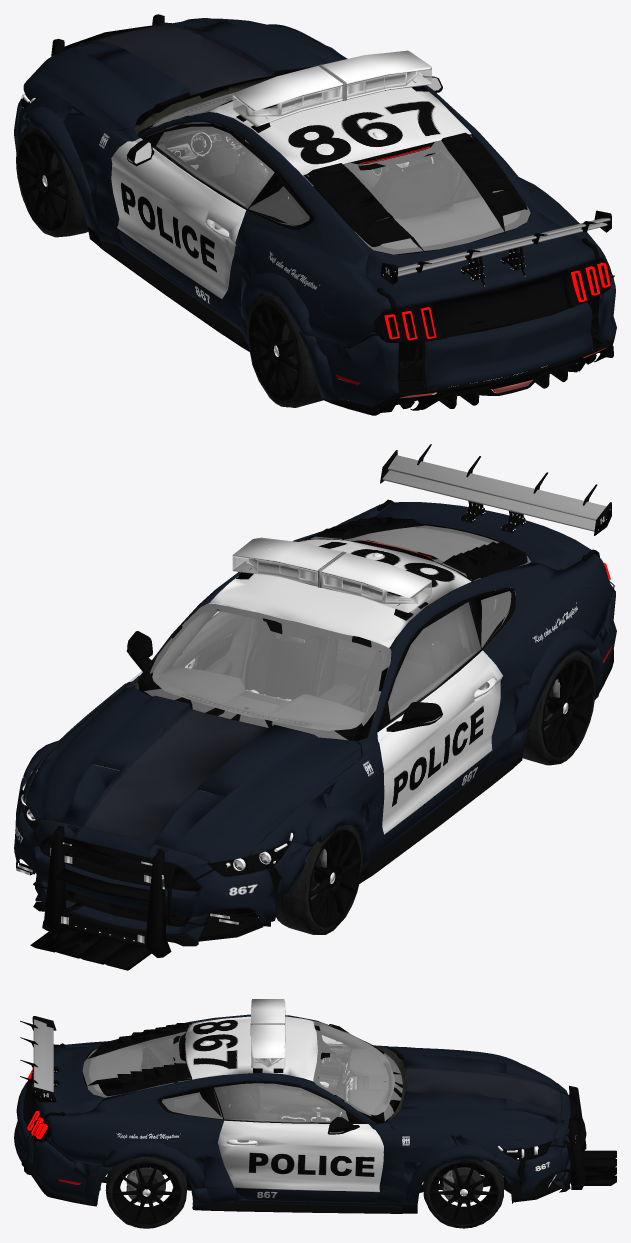
File: barricade-vehicle.glb
3 views of the same model, one above another, from view 1: azimuth 30°, elevation 25°; view 2: azimuth 150°, elevation 25°; view 3: azimuth 270°, elevation 25° (orthographic). The views are drawn at different scales.
Visible parts, largest first — view 1: Object_41, Object_42, Object_45, Object_39, Object_44, Object_24, Object_27, Object_29, Object_59, Object_46, Object_25, Object_28 (+26 smaller); view 2: Object_42, Object_39, Object_41, Object_45, Object_43, Object_51, Object_27, Object_26, Object_46, Object_58, Object_36, Object_59 (+22 smaller); view 3: Object_46, Object_42, Object_41, Object_39, Object_27, Object_45, Object_44, Object_35, Object_36, Object_24, Object_25, Object_37 (+26 smaller).
Part boxes in pixels (x1,y1,x2,y2): Object_41: [137, 85, 611, 345]; Object_42: [25, 18, 594, 336]; Object_45: [23, 24, 347, 310]; Object_39: [148, 92, 605, 397]; Object_44: [314, 274, 616, 406]; Object_24: [148, 132, 527, 262]; Object_27: [111, 75, 607, 338]; Object_29: [47, 29, 581, 337]; Object_59: [134, 50, 441, 163]; Object_46: [15, 45, 599, 400]; Object_25: [87, 210, 611, 351]; Object_28: [323, 259, 614, 415]; Object_42: [25, 502, 591, 865]; Object_39: [23, 525, 530, 868]; Object_41: [137, 502, 611, 747]; Object_45: [23, 650, 502, 862]; Object_43: [14, 801, 302, 940]; Object_51: [194, 573, 494, 713]; Object_27: [16, 526, 530, 943]; Object_26: [20, 687, 362, 957]; Object_46: [15, 612, 602, 895]; Object_58: [318, 455, 606, 587]; Object_36: [152, 658, 384, 730]; Object_59: [232, 537, 431, 612]; Object_46: [82, 1120, 520, 1205]; Object_42: [31, 1043, 561, 1208]; Object_41: [46, 1014, 376, 1187]; Object_39: [83, 1021, 402, 1122]; Object_27: [29, 1021, 576, 1188]; Object_45: [370, 1045, 534, 1203]; Object_44: [15, 1080, 100, 1199]; Object_35: [89, 1024, 366, 1119]; Object_36: [330, 1043, 394, 1121]; Object_24: [87, 1023, 376, 1202]; Object_25: [20, 1016, 417, 1213]; Object_37: [256, 1044, 393, 1122].
Size of what is drawn, in the model's own units: 2.36 by 1.68 by 5.82.
Materials: 28 (14 with a texture image).
